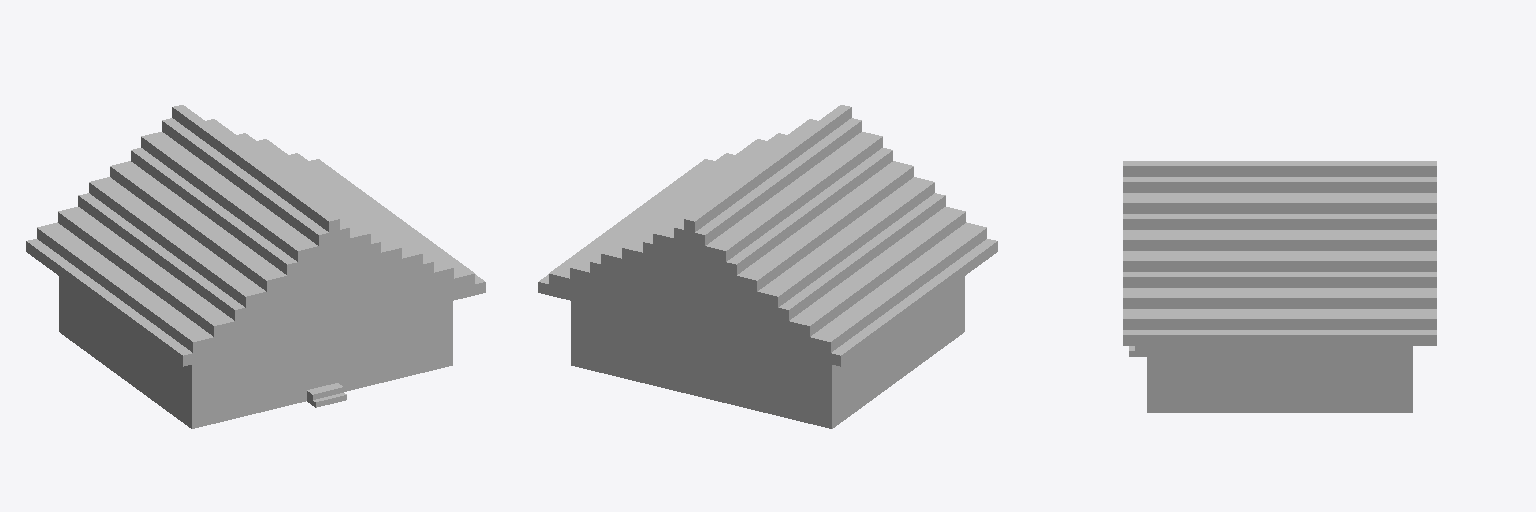
The model's file is MatthewsHouse.obj.
3 views of the same model, side by side, from view 1: azimuth 30°, elevation 25°; view 2: azimuth 150°, elevation 25°; view 3: azimuth 270°, elevation 25° (orthographic).
Parts seen in each view (by area): view 1: object 1; view 2: object 1; view 3: object 1.
Boxes of the visible parts, box(x1,y1,x2,y2) form: object 1: box(26, 105, 485, 428); object 1: box(538, 105, 997, 428); object 1: box(1123, 161, 1436, 412).
Bounding box in the file's own units: 11.6 × 6.8 × 10.4.